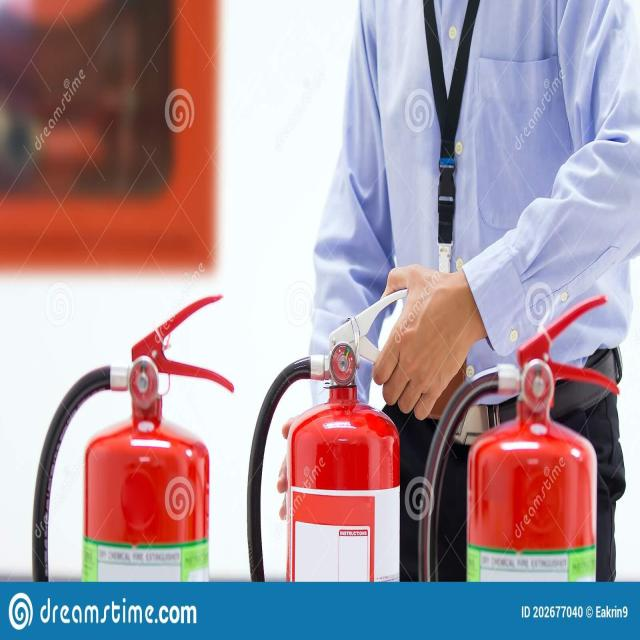fire_extinguisher: (29, 291, 236, 583), (416, 291, 620, 583), (243, 281, 416, 581)
